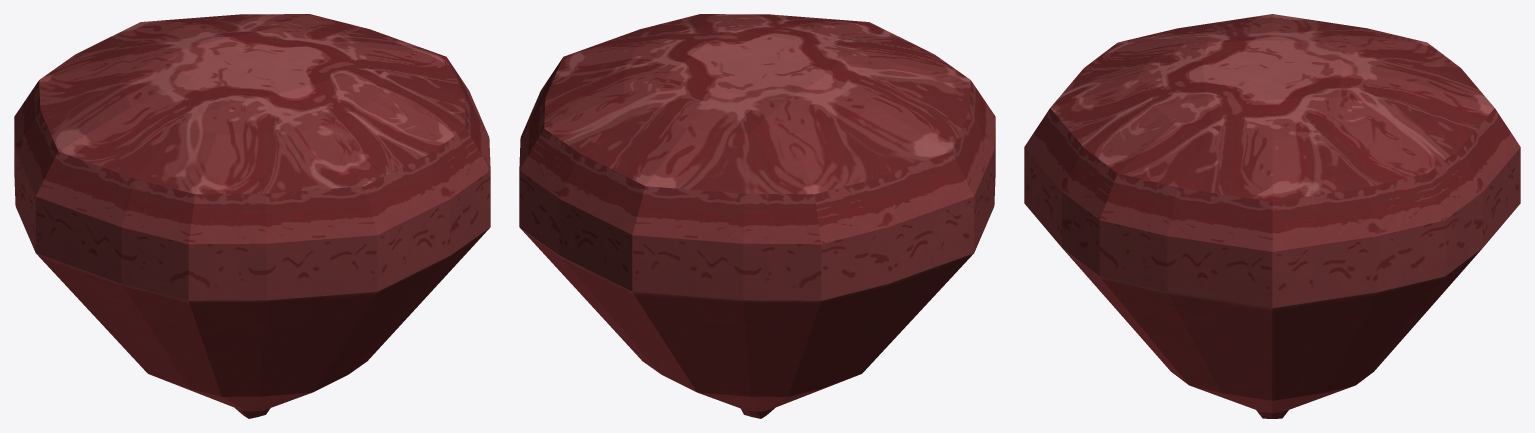
File: evil_diamond.fbx
3 views of the same model, side by side, from view 1: azimuth 30°, elevation 25°; view 2: azimuth 150°, elevation 25°; view 3: azimuth 270°, elevation 25° (orthographic).
Parts seen in each view (by area): view 1: Cube; view 2: Cube; view 3: Cube.
Boxes of the visible parts, x1,y1,x2,y2 form: Cube: (14,14,490,418); Cube: (519,14,995,418); Cube: (1024,14,1520,418).
Size of the model in its own units: 227 by 174 by 227.
